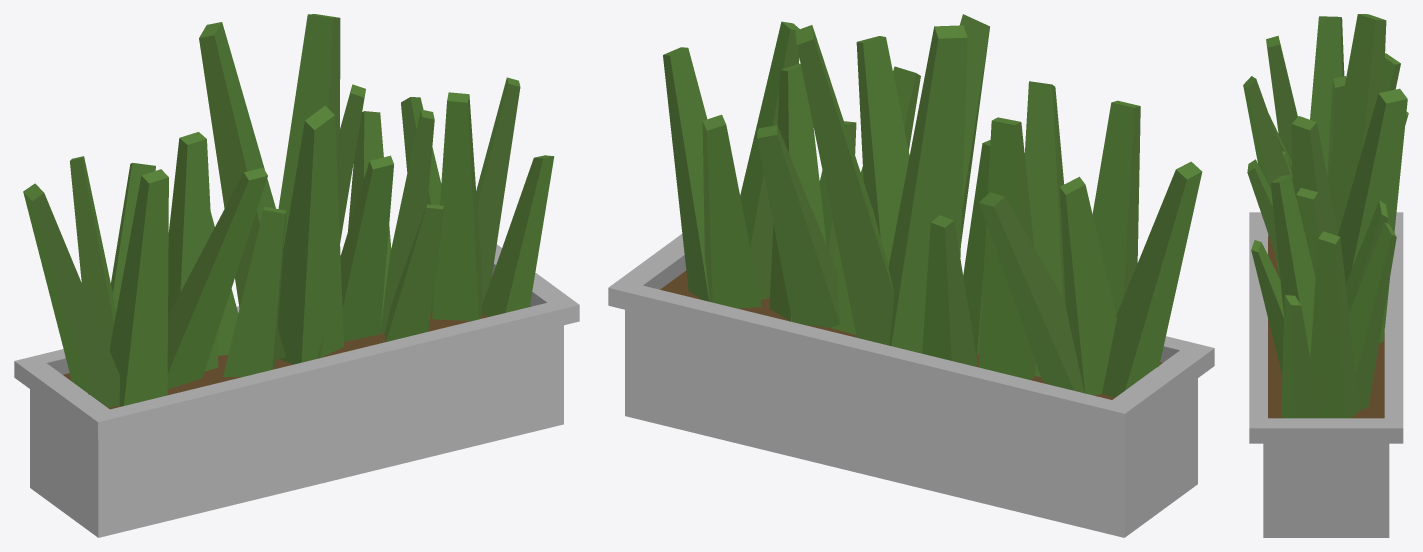
Rendered from Plant.glb.
3 views of the same model, side by side, from view 1: azimuth 30°, elevation 25°; view 2: azimuth 150°, elevation 25°; view 3: azimuth 270°, elevation 25° (orthographic). The views are drawn at different scales.
Parts seen in each view (by area): view 1: SI_Prop_Plant_01; view 2: SI_Prop_Plant_01; view 3: SI_Prop_Plant_01.
Boxes of the visible parts, box(x1,y1,x2,y2) form: SI_Prop_Plant_01: box(14, 14, 579, 537); SI_Prop_Plant_01: box(608, 14, 1214, 537); SI_Prop_Plant_01: box(1243, 14, 1408, 537).
Size of the model in its own units: 0.0287 by 0.023 by 0.0088.
Materials: 1 (1 with a texture image).
